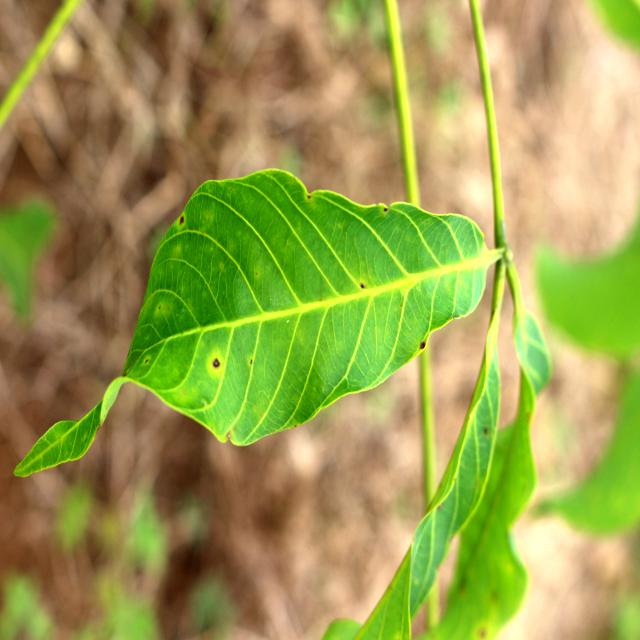Colletotrichum: (212, 359, 220, 368), (420, 342, 425, 349)
